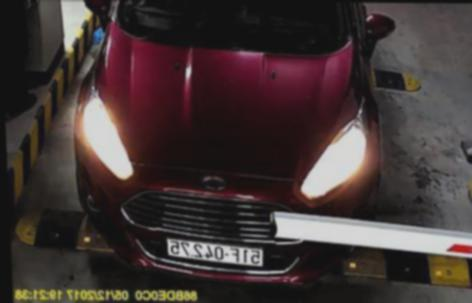License_Plate: (166, 233, 262, 269)
